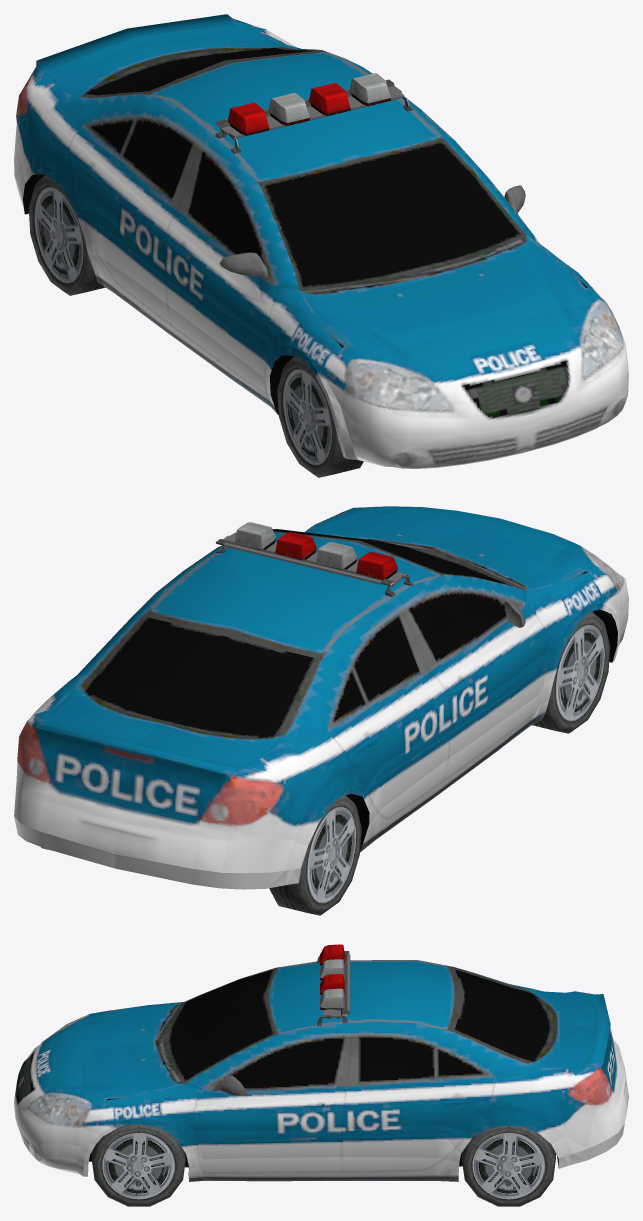
File: carpo.glb
3 renders of one model, top to bottom at view 1: azimuth 30°, elevation 25°; view 2: azimuth 150°, elevation 25°; view 3: azimuth 270°, elevation 25°, orthographic. The views are drawn at different scales.
Visible parts, largest first — view 1: chassis_carpaint, WheelsPairF_pivot_carpaint.004, WheelsPairB0_pivot_carpaint.004, WheelsPairF_pivot_carpaint.030, WheelsPairB0_pivot_carpaint.030; view 2: chassis_carpaint, WheelsPairB0_pivot_carpaint.004, WheelsPairF_pivot_carpaint.004, WheelsPairB0_pivot_carpaint.030, WheelsPairF_pivot_carpaint.030, WheelsPairB0_pivot_carpaint.009; view 3: chassis_carpaint, WheelsPairF_pivot_carpaint.022, WheelsPairB0_pivot_carpaint.022, WheelsPairB0_pivot_carpaint.031, WheelsPairF_pivot_carpaint.031.
Boxes of the visible parts, box(x1,y1,x2,y2) form: chassis_carpaint: box(14, 14, 628, 468); WheelsPairF_pivot_carpaint.004: box(282, 368, 332, 466); WheelsPairB0_pivot_carpaint.004: box(33, 185, 84, 284); WheelsPairF_pivot_carpaint.030: box(277, 361, 335, 473); WheelsPairB0_pivot_carpaint.030: box(28, 179, 86, 291); chassis_carpaint: box(14, 506, 628, 889); WheelsPairB0_pivot_carpaint.004: box(306, 805, 356, 904); WheelsPairF_pivot_carpaint.004: box(554, 624, 605, 722); WheelsPairB0_pivot_carpaint.030: box(303, 798, 361, 911); WheelsPairF_pivot_carpaint.030: box(552, 616, 610, 729); WheelsPairB0_pivot_carpaint.009: box(269, 889, 312, 912); chassis_carpaint: box(14, 944, 628, 1181); WheelsPairF_pivot_carpaint.022: box(101, 1132, 176, 1199); WheelsPairB0_pivot_carpaint.022: box(471, 1132, 546, 1199); WheelsPairB0_pivot_carpaint.031: box(465, 1127, 552, 1204); WheelsPairF_pivot_carpaint.031: box(95, 1127, 181, 1204).
Size of the model in its own units: 1.99 by 1.57 by 4.7.
Materials: 1 (1 with a texture image).
